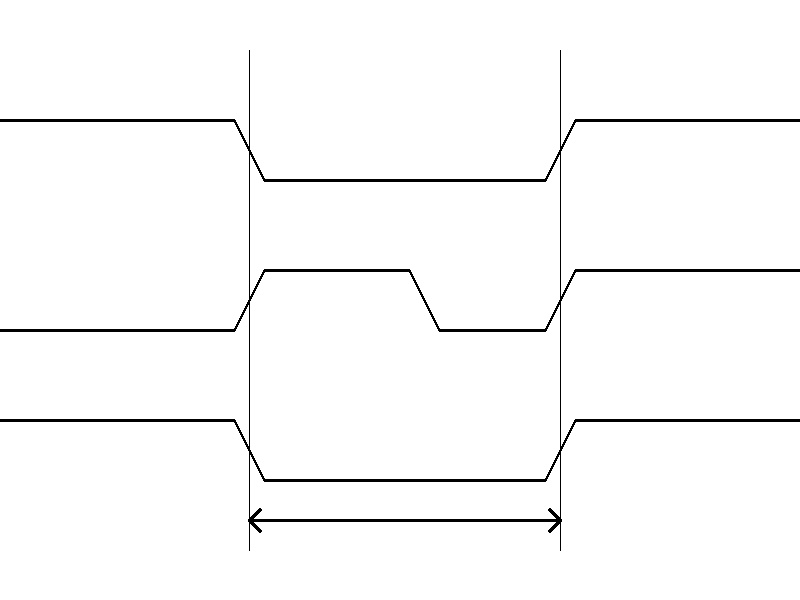double_arrow: (249, 505, 560, 535)
